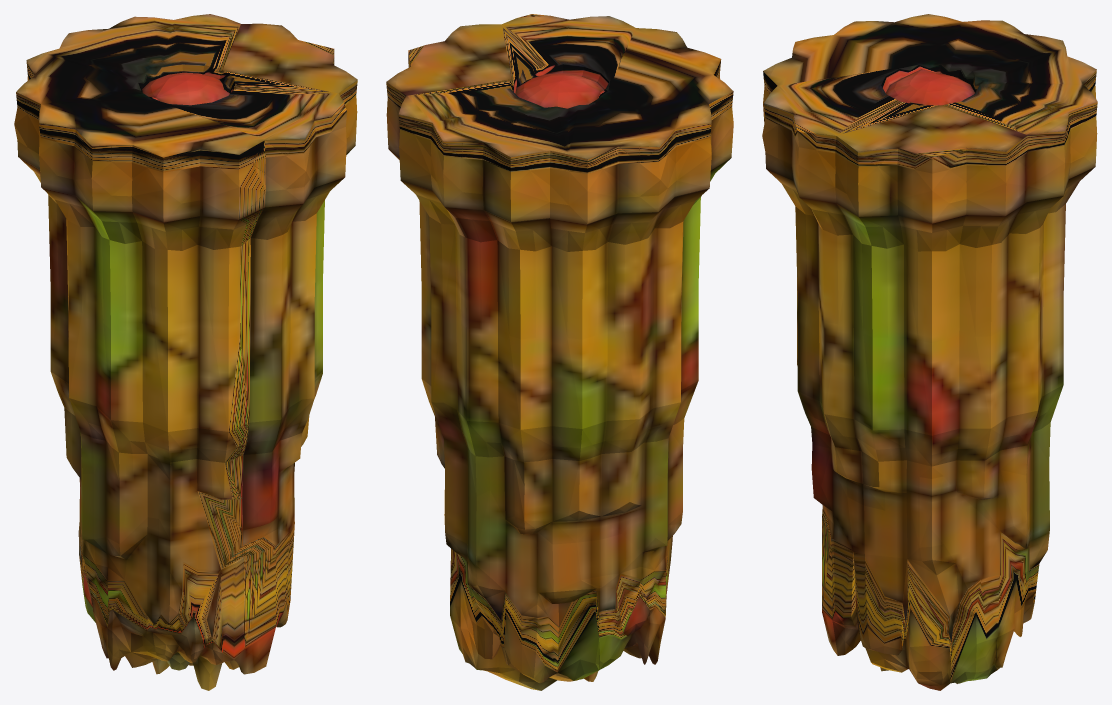
3 views of the same model, side by side, from view 1: azimuth 30°, elevation 25°; view 2: azimuth 150°, elevation 25°; view 3: azimuth 270°, elevation 25° (orthographic).
Parts seen in each view (by area): view 1: Object_5; view 2: Object_5; view 3: Object_5.
Boxes of the visible parts, left/top/right/bottom form: Object_5: left=14, top=14, right=357, bottom=690; Object_5: left=386, top=14, right=733, bottom=690; Object_5: left=762, top=14, right=1097, bottom=690.
Bounding box in the file's own units: 0.5501 × 1.05 × 0.5389.
1 material, 1 textured.
